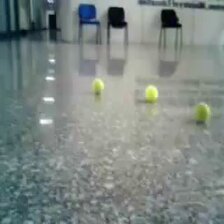tennis: (194, 101, 211, 122), (91, 77, 104, 93), (145, 85, 158, 100)
